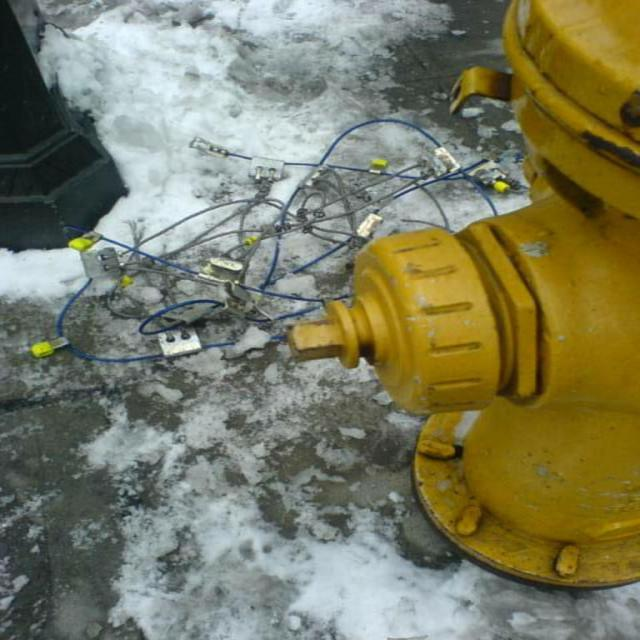fire_hydrant: (286, 0, 638, 584)
